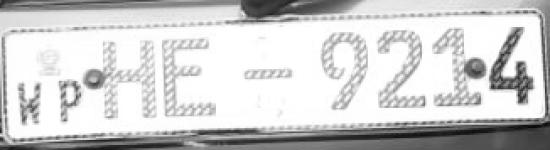-: (238, 64, 294, 85)
1: (433, 22, 485, 113)
2: (375, 24, 429, 112)
4: (489, 22, 539, 109)
9: (314, 26, 369, 117)
E: (159, 35, 227, 121)
H: (99, 34, 157, 122)
P: (56, 70, 85, 126)
W: (12, 69, 52, 128)
